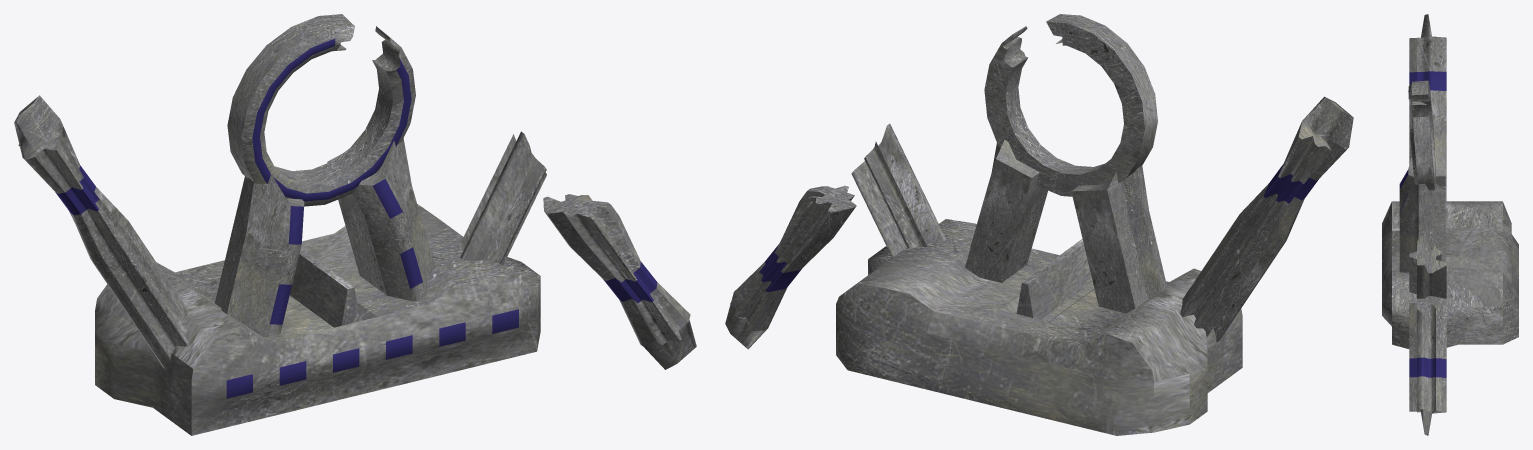
File: Portal-Environment.fbx
3 renders of one model, left to right at view 1: azimuth 30°, elevation 25°; view 2: azimuth 150°, elevation 25°; view 3: azimuth 270°, elevation 25°, orthographic. The views are drawn at different scales.
Visible parts, largest first — view 1: pCube3, polySurface1, pasted__pCube4, polySurface4, pCube1, pCube2, polySurface3; view 2: pCube3, polySurface1, pasted__pCube4, pCube1, polySurface4, pCube2, polySurface3; view 3: pCube3, polySurface4, pasted__pCube4, pCube2, polySurface1, polySurface3, pCube1.
Part boxes in pixels (x1,y1,x2,y2): pCube3: (95, 204, 540, 435); polySurface1: (227, 14, 415, 206); pasted__pCube4: (14, 95, 189, 369); polySurface4: (543, 194, 696, 369); pCube1: (215, 175, 304, 337); pCube2: (327, 138, 435, 301); polySurface3: (458, 131, 546, 265); pCube3: (836, 219, 1242, 435); polySurface1: (984, 14, 1157, 196); pasted__pCube4: (1180, 96, 1353, 342); pCube1: (1071, 165, 1167, 313); polySurface4: (725, 185, 856, 349); pCube2: (965, 140, 1047, 282); polySurface3: (851, 123, 946, 257); pCube3: (1382, 201, 1518, 348); polySurface4: (1409, 296, 1446, 435); pasted__pCube4: (1409, 14, 1446, 201); pCube2: (1399, 180, 1445, 272); polySurface1: (1408, 80, 1436, 190); polySurface3: (1409, 235, 1446, 298); pCube1: (1399, 151, 1445, 211).
Bounding box in the file's own units: 105 × 64.4 × 31.56.
Materials: 2 (1 with a texture image).
